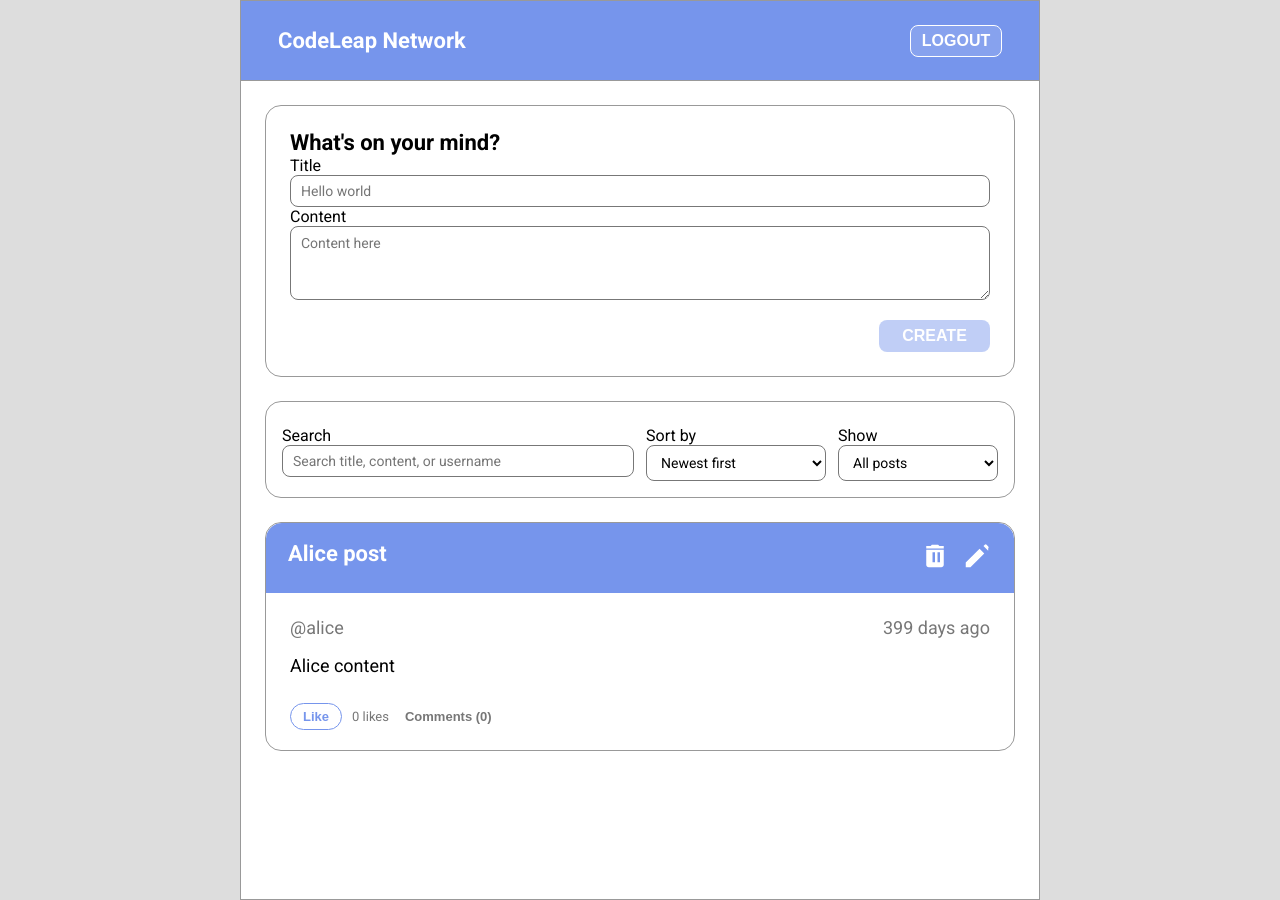
Scenario: critical flows › opens delete modal and closes on Cancel without deleting
Expected: the heading "Alice post" is shown, [288, 541, 387, 566]
What coordinates should you click on to do the following:
click the button named "Delete post Alice post"
I would click on:
 (935, 556)
Its box is [920, 541, 950, 571].
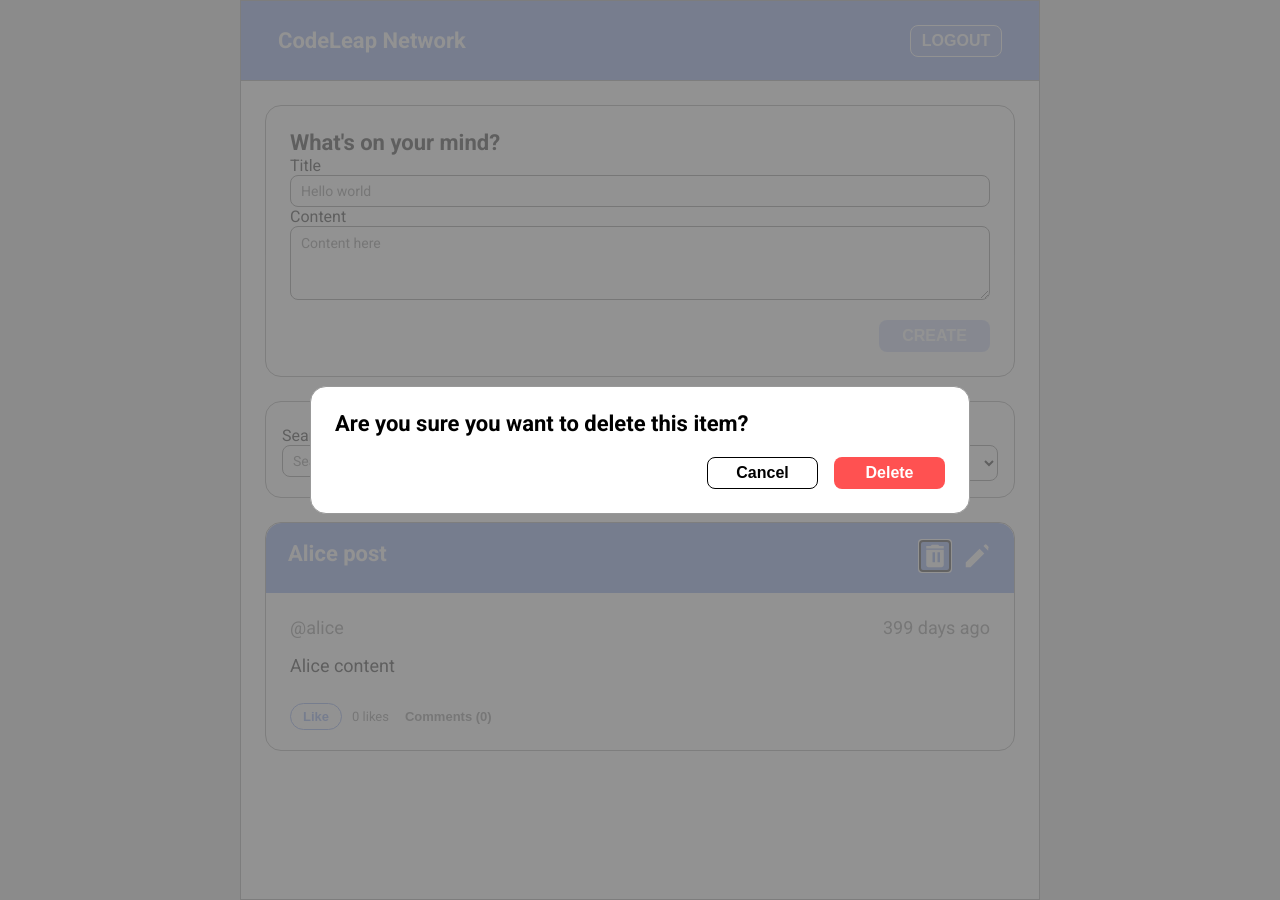
Now the heading "Are you sure you want to delete this item?" is shown, box [335, 411, 748, 436]
What coordinates should you click on to do the following:
click the button "Cancel"
I would click on:
 (762, 473)
Its box is [707, 457, 818, 489].
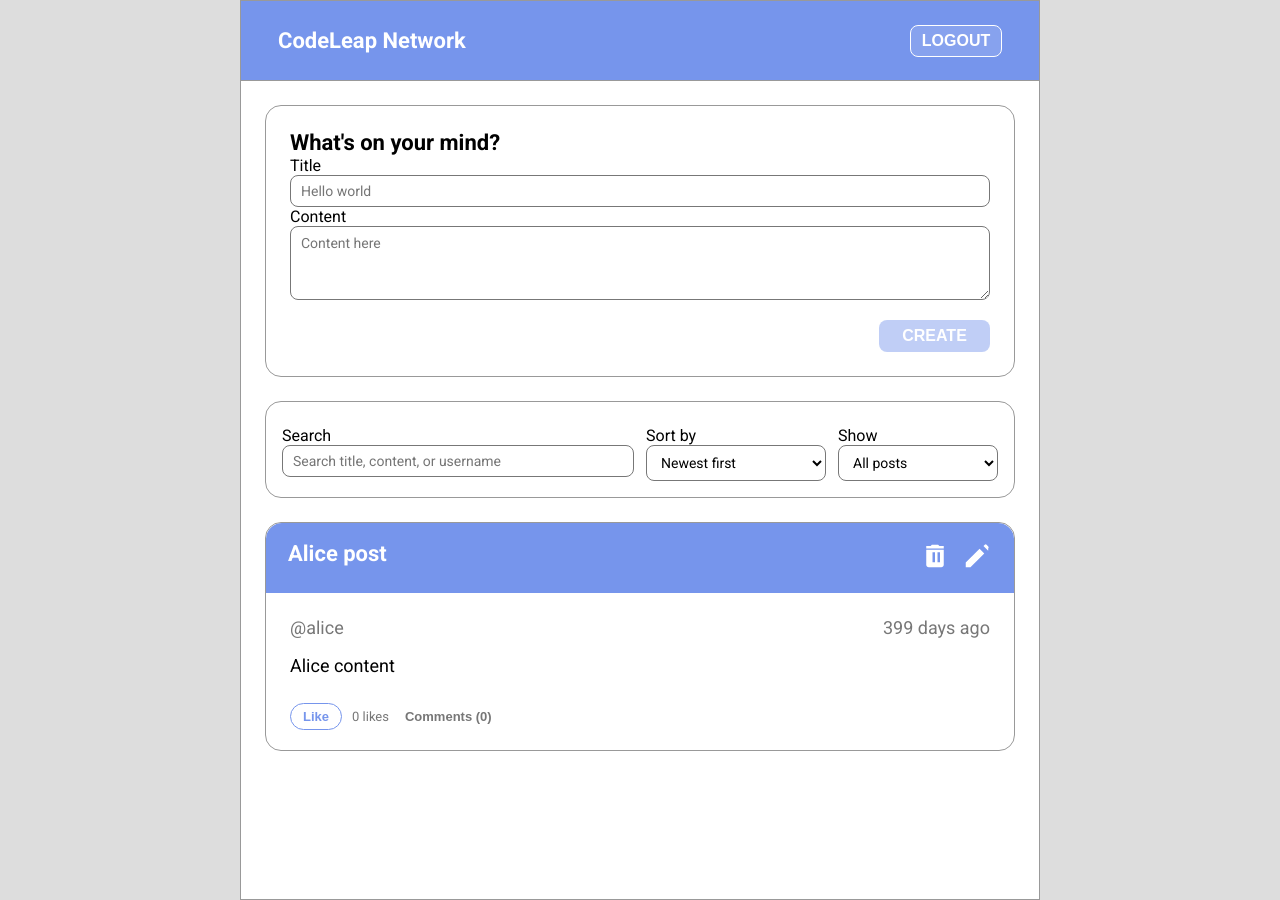
Now the heading "Are you sure you want to delete this item?" is gone
